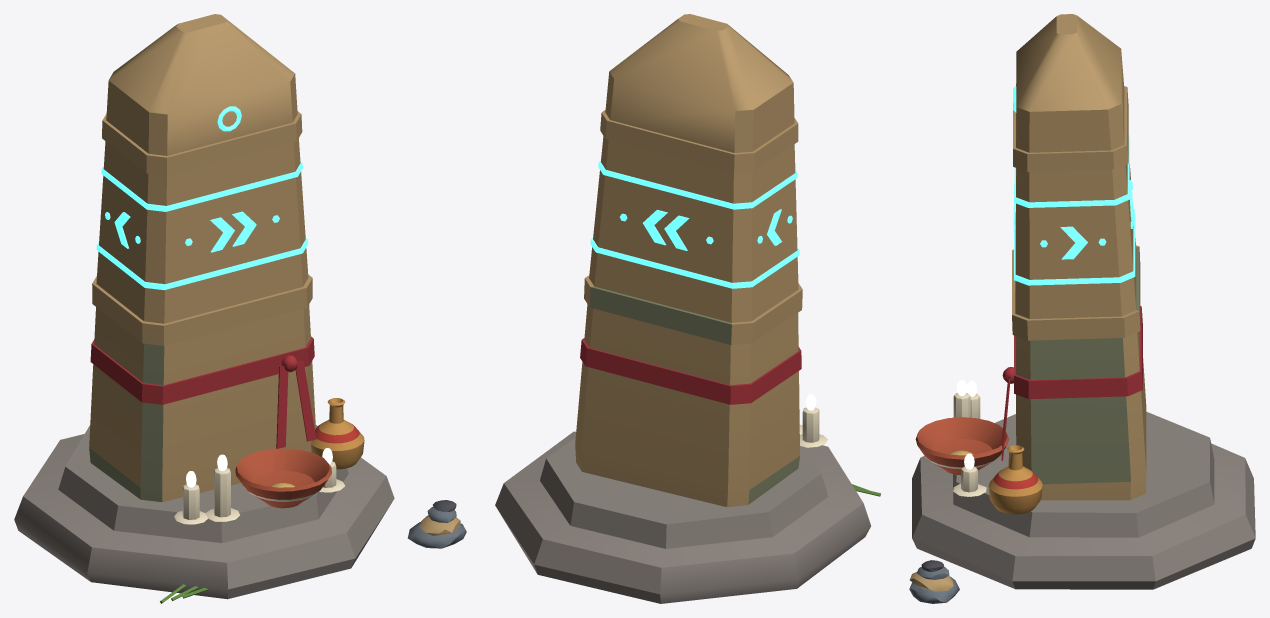
File: deco_waystone.fbx
The picture shows the model from 3 angles, left to right: view 1: azimuth 30°, elevation 25°; view 2: azimuth 150°, elevation 25°; view 3: azimuth 270°, elevation 25°; orthographic projection. The views are drawn at different scales.
Visible parts, largest first — view 1: Waystone_Stone, Waystone_Offerings, Waystone_Glyphs; view 2: Waystone_Stone, Waystone_Offerings, Waystone_Glyphs; view 3: Waystone_Stone, Waystone_Offerings, Waystone_Glyphs.
Part boxes in pixels (x1,y1,x2,y2): Waystone_Stone: (14, 14, 394, 599); Waystone_Offerings: (90, 336, 466, 603); Waystone_Glyphs: (96, 106, 307, 290); Waystone_Stone: (495, 14, 870, 603); Waystone_Offerings: (580, 338, 880, 496); Waystone_Glyphs: (590, 161, 799, 288); Waystone_Stone: (912, 14, 1255, 589); Waystone_Offerings: (909, 306, 1142, 603); Waystone_Glyphs: (1013, 86, 1135, 285).
Size of the model in its own units: 154 by 222 by 142.
